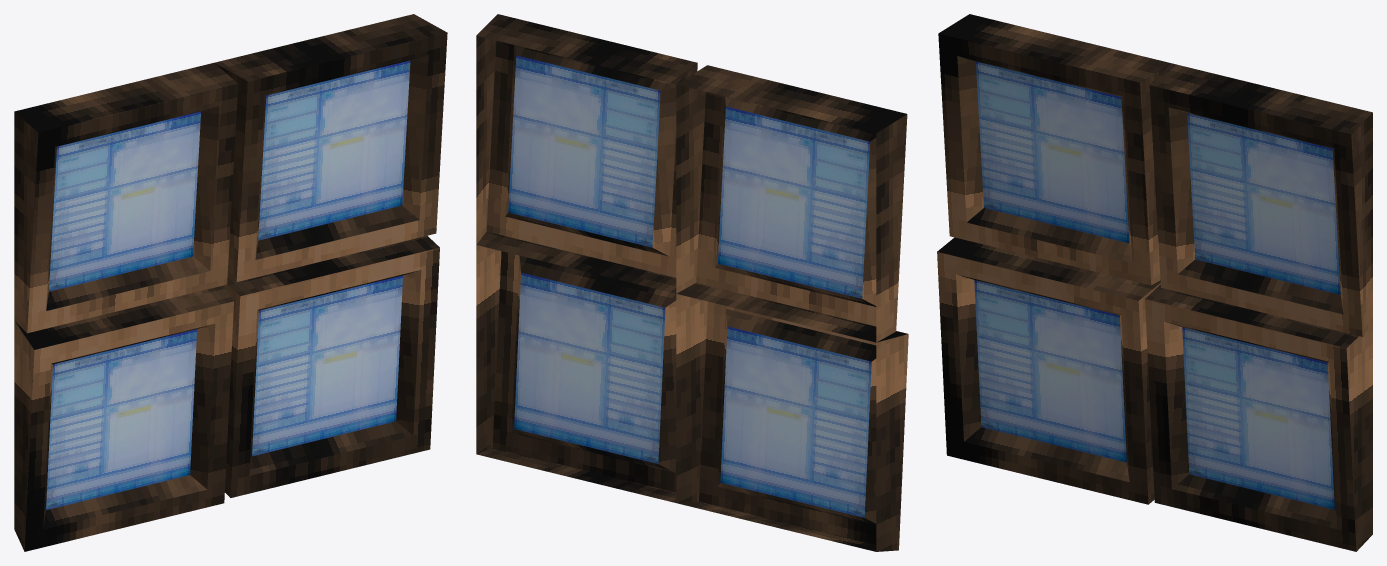
File: rot_viewer.glb
3 renders of one model, left to right at view 1: azimuth 30°, elevation 25°; view 2: azimuth 150°, elevation 25°; view 3: azimuth 330°, elevation 25°, orthographic.
Visible parts, largest first — view 1: rot_viewer; view 2: rot_viewer; view 3: rot_viewer.
Part boxes in pixels (box(x1,y1,x2,y2)): rot_viewer: box(14, 14, 447, 551); rot_viewer: box(476, 14, 908, 551); rot_viewer: box(937, 14, 1372, 551).
Bounding box in the file's own units: 2.06 × 2.04 × 0.2388.
2 materials, 2 textured.
